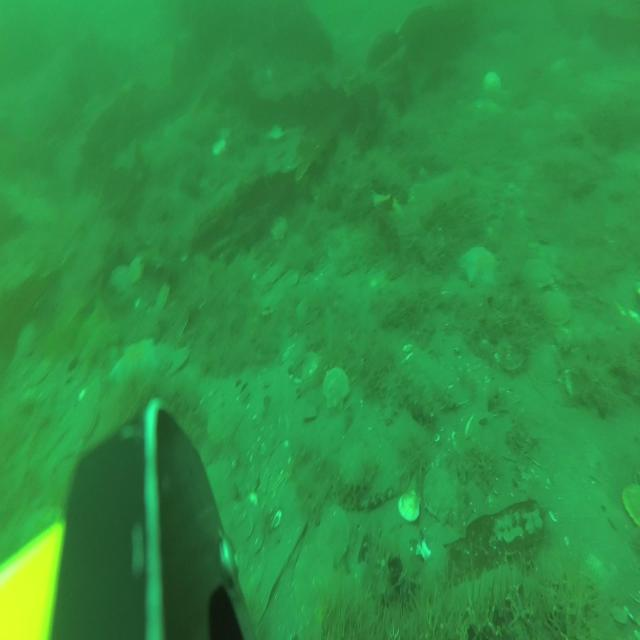holothurian: (381, 382, 403, 428)
scallop: (292, 540, 335, 626), (320, 499, 352, 570), (422, 465, 457, 519), (320, 362, 351, 416), (528, 338, 560, 389), (522, 252, 554, 294), (540, 285, 572, 327), (495, 332, 527, 373), (621, 471, 640, 533), (296, 346, 320, 387), (397, 486, 422, 524), (294, 292, 321, 327), (28, 354, 53, 390), (106, 260, 131, 296), (257, 289, 286, 317), (128, 252, 146, 288), (269, 212, 288, 244), (482, 68, 503, 96), (157, 278, 170, 312), (264, 262, 284, 282), (284, 269, 300, 287)
starfish: (106, 335, 162, 399), (457, 240, 501, 293)
